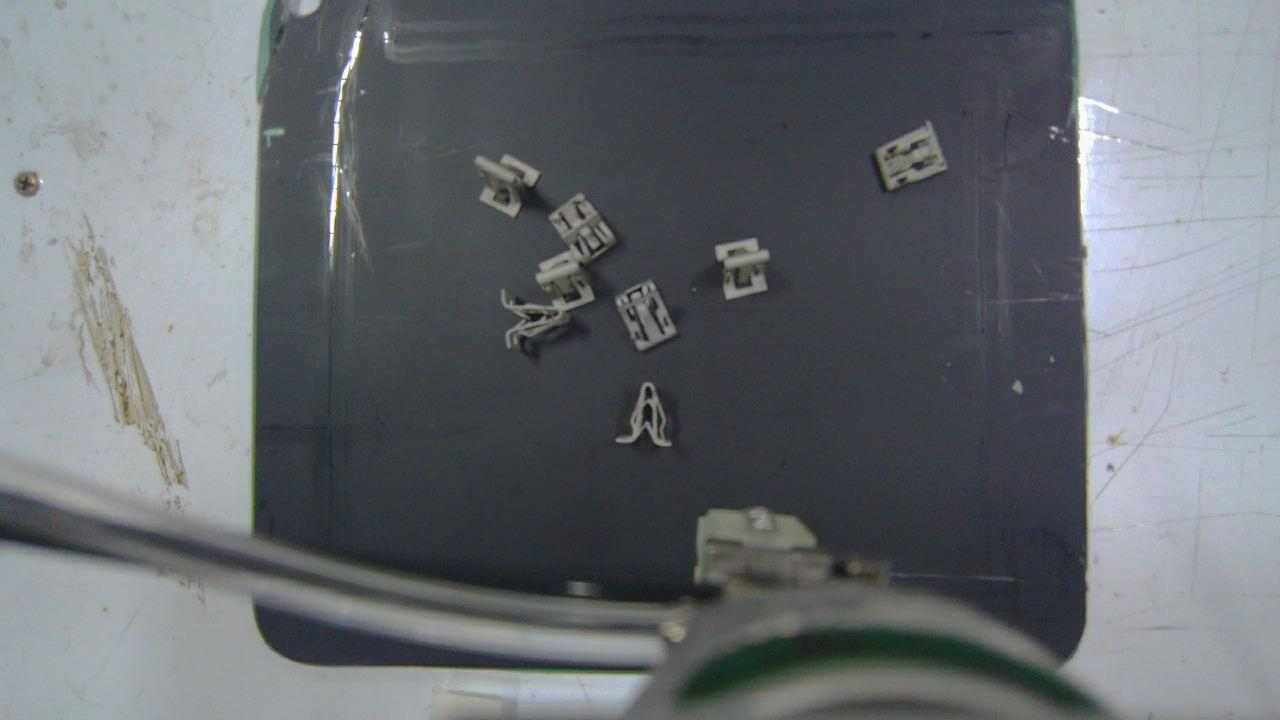ng: (879, 119, 948, 188), (550, 195, 616, 264), (615, 279, 674, 350), (500, 293, 568, 348), (615, 380, 671, 446), (536, 250, 593, 312)
pass: (474, 154, 541, 217), (714, 237, 770, 300)
